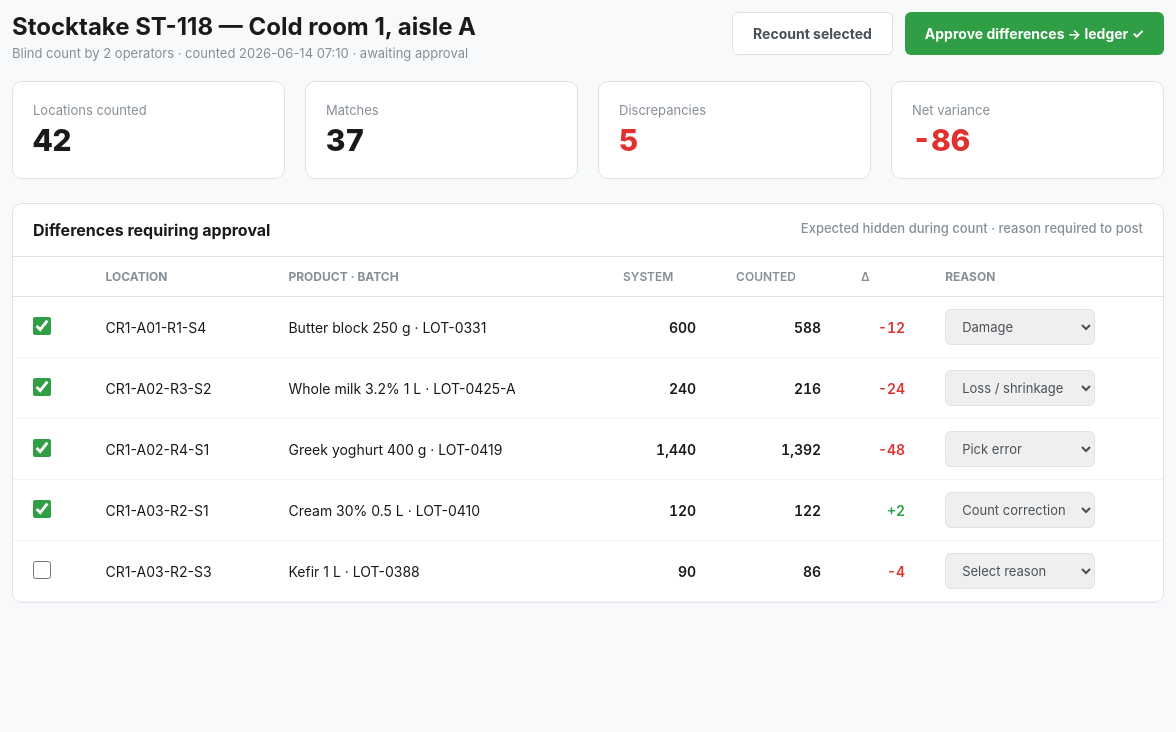
Test: StocktakeScreen › re-issues a blind count for the selected rows (recount)
Expected: the text "Butter block 250 g · LOT-0331" is shown, [268,296,603,358]
Note: The 4 pre-filled rows are selected by default → recount is enabled.
Step 1. Click the button "Recount selected" → (812, 34), box [732,12,893,55]
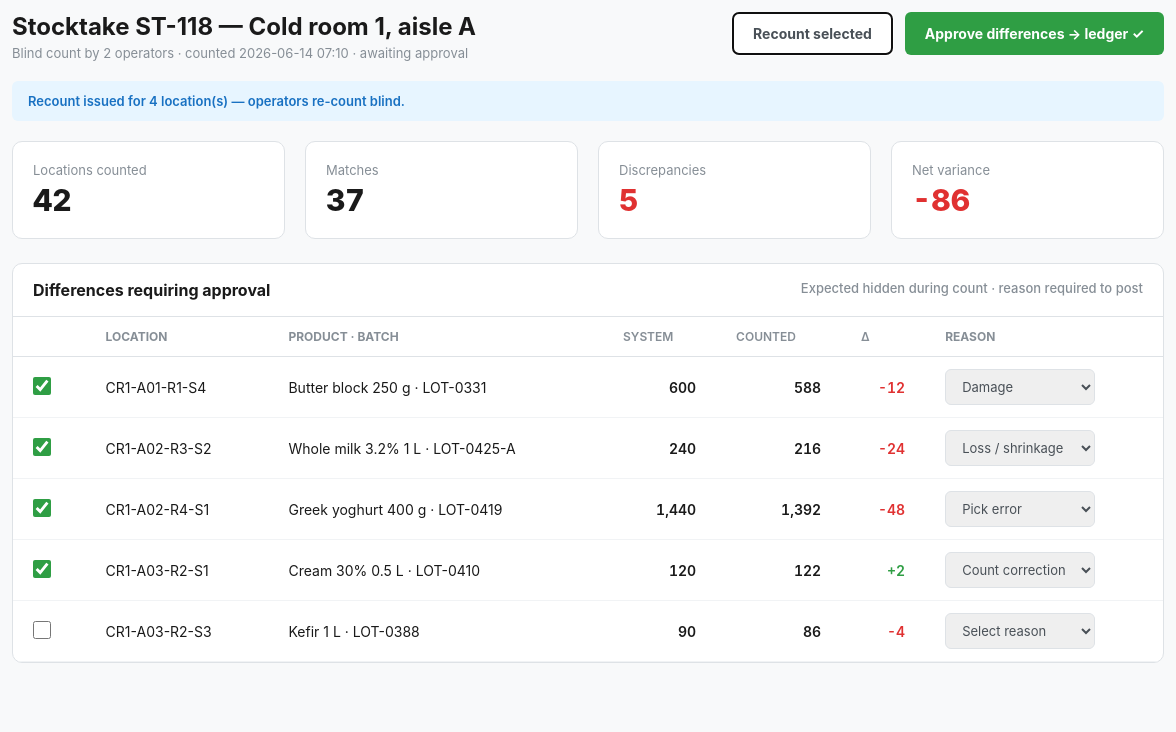
Result: the text "Recount issued for 4 location(s) — operators re-count blind." is shown at [12,81,1164,121]
